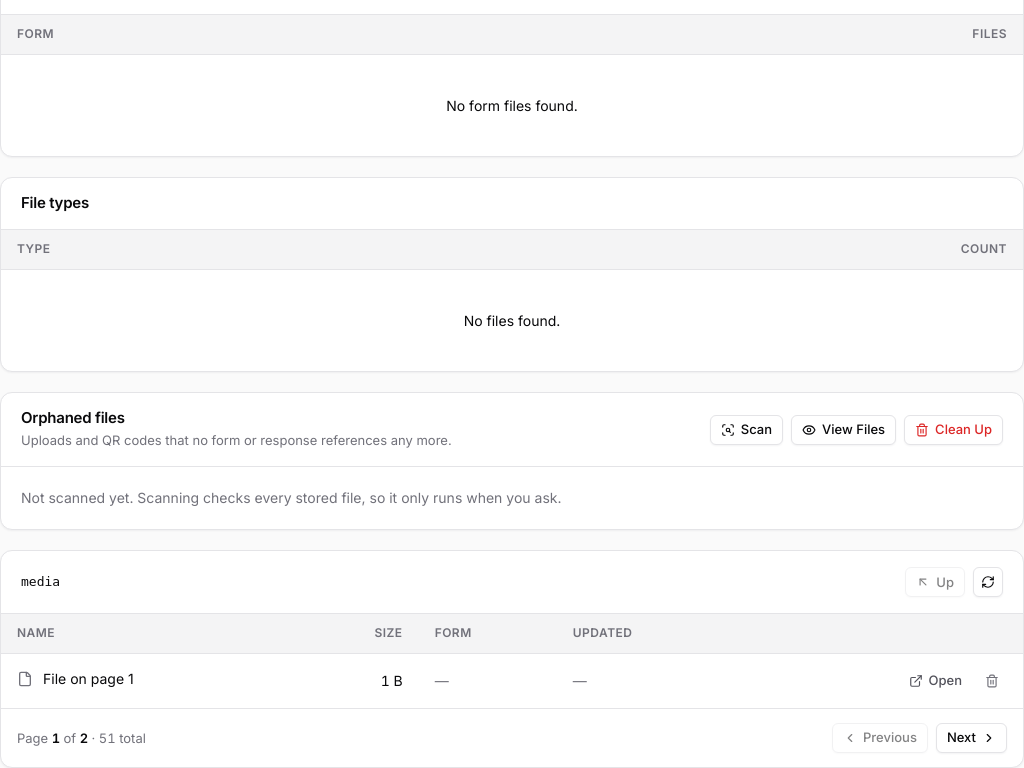
Test case: review regressions › loads and displays file browser page two
(page scrolled)
expect the text "File on page 1" is shown: met, box 43,668 -> 134,690
Step 1. Click the button with aria-label "Next page" → coordinates (971, 738), box 936,723 -> 1007,753
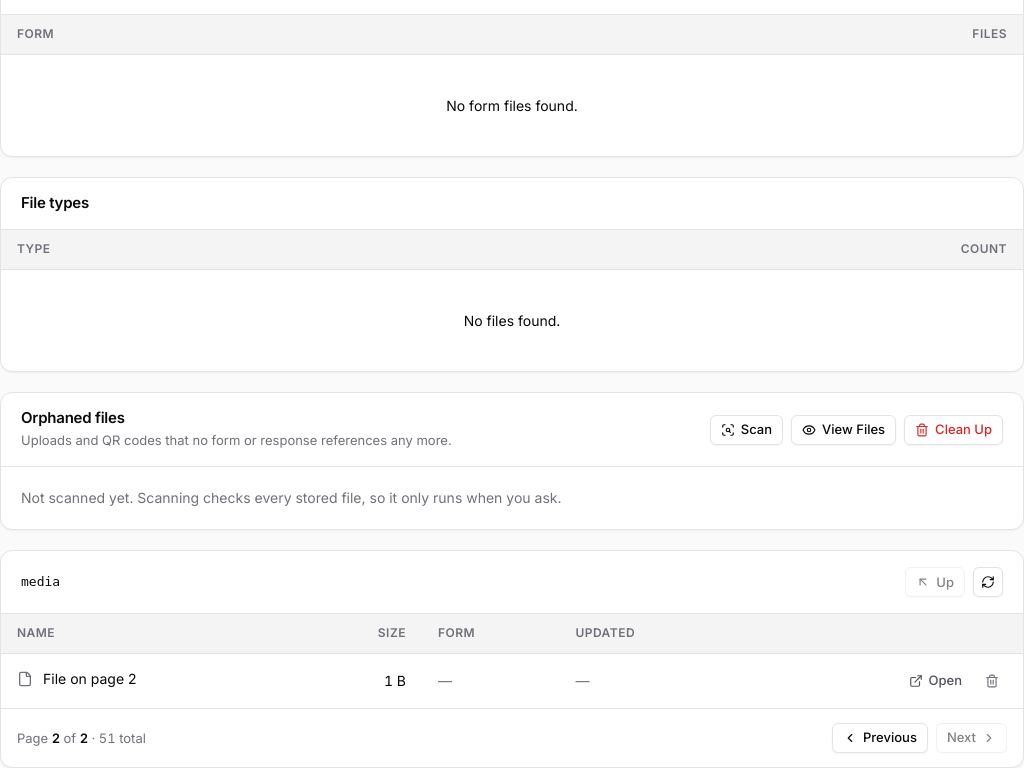
expect the text "File on page 2" is shown: met, box 43,668 -> 136,690
expect the button with aria-label "Next page" is disabled: met, box 936,723 -> 1007,753
